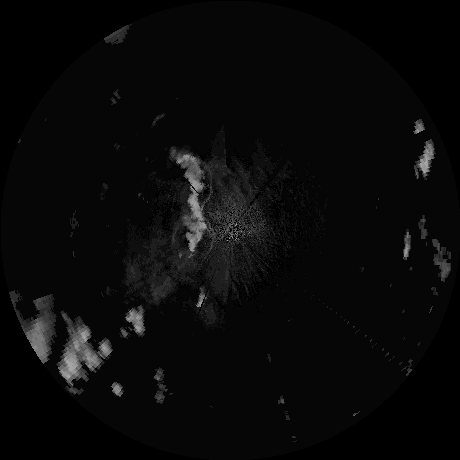frontgust: (169, 219, 184, 248), (203, 169, 214, 206), (206, 219, 216, 257)
